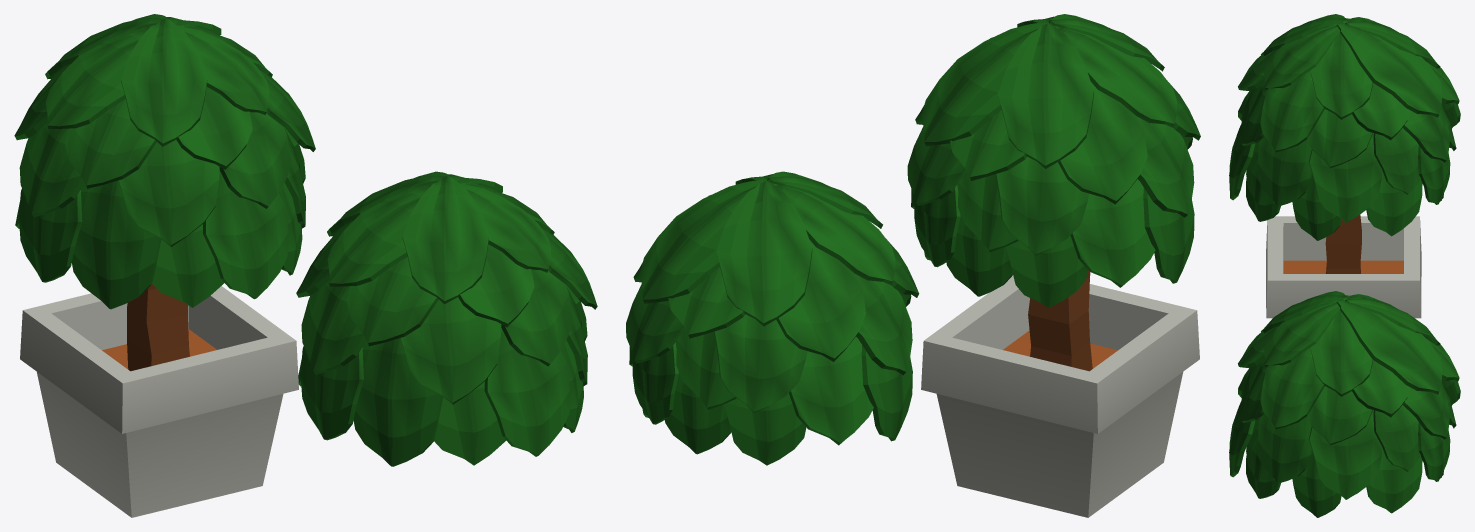
File: Laboratorio.fbx_Arbustos.fbx
3 renders of one model, left to right at view 1: azimuth 30°, elevation 25°; view 2: azimuth 150°, elevation 25°; view 3: azimuth 270°, elevation 25°, orthographic. The views are drawn at different scales.
Parts seen in each view (by area): view 1: ArbustoVaso, Arbusto; view 2: ArbustoVaso, Arbusto; view 3: ArbustoVaso, Arbusto.
Boxes of the visible parts, left/top/right/bottom form: ArbustoVaso: left=14, top=14, right=315, bottom=517; Arbusto: left=296, top=171, right=597, bottom=466; ArbustoVaso: left=907, top=14, right=1200, bottom=517; Arbusto: left=626, top=171, right=919, bottom=465; ArbustoVaso: left=1229, top=14, right=1460, bottom=318; Arbusto: left=1229, top=291, right=1460, bottom=517.
Bounding box in the file's own units: 180 × 149 × 87.82.
